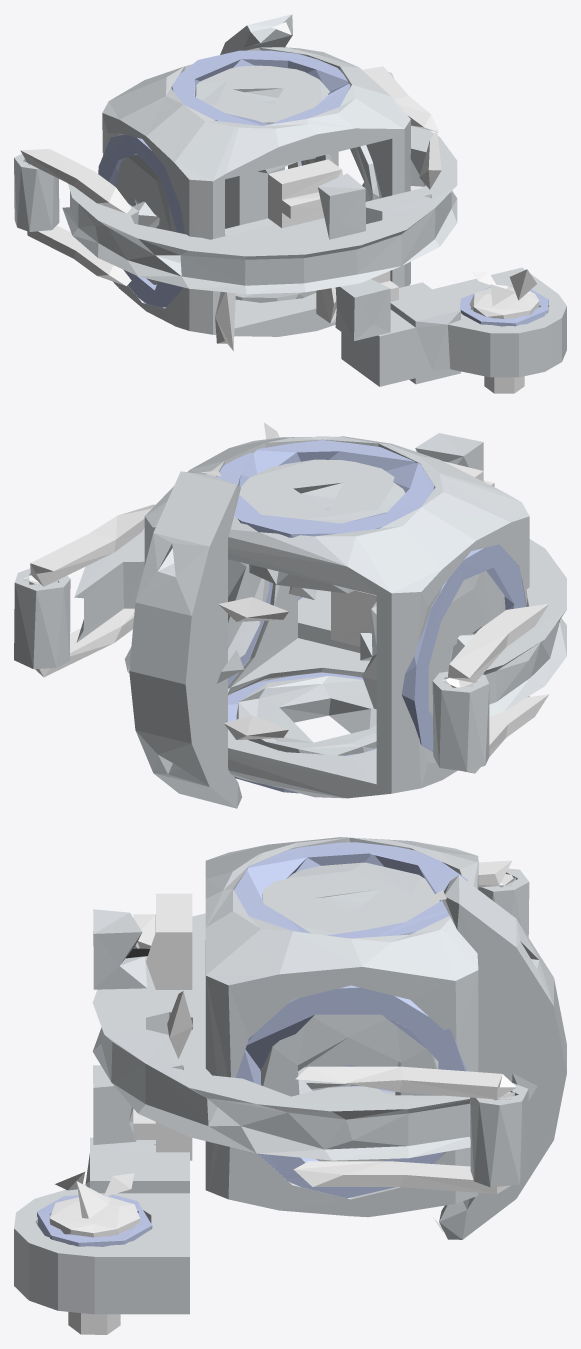
The model's file is RLEG_LINK4_mesh.dae.
3 renders of one model, top to bottom at view 1: azimuth 30°, elevation 25°; view 2: azimuth 150°, elevation 25°; view 3: azimuth 270°, elevation 25°, orthographic. The views are drawn at different scales.
Visible parts, largest first — view 1: RLEG_LINK4 (×18); view 2: RLEG_LINK4 (×19); view 3: RLEG_LINK4 (×17).
Part boxes in pixels (<box>): RLEG_LINK4 (×18): <box>14,14,566,393</box>; RLEG_LINK4 (×19): <box>14,433,566,808</box>; RLEG_LINK4 (×17): <box>14,837,566,1334</box>.
Size of the model in its own units: 0.1281 by 0.0911 by 0.1217.
